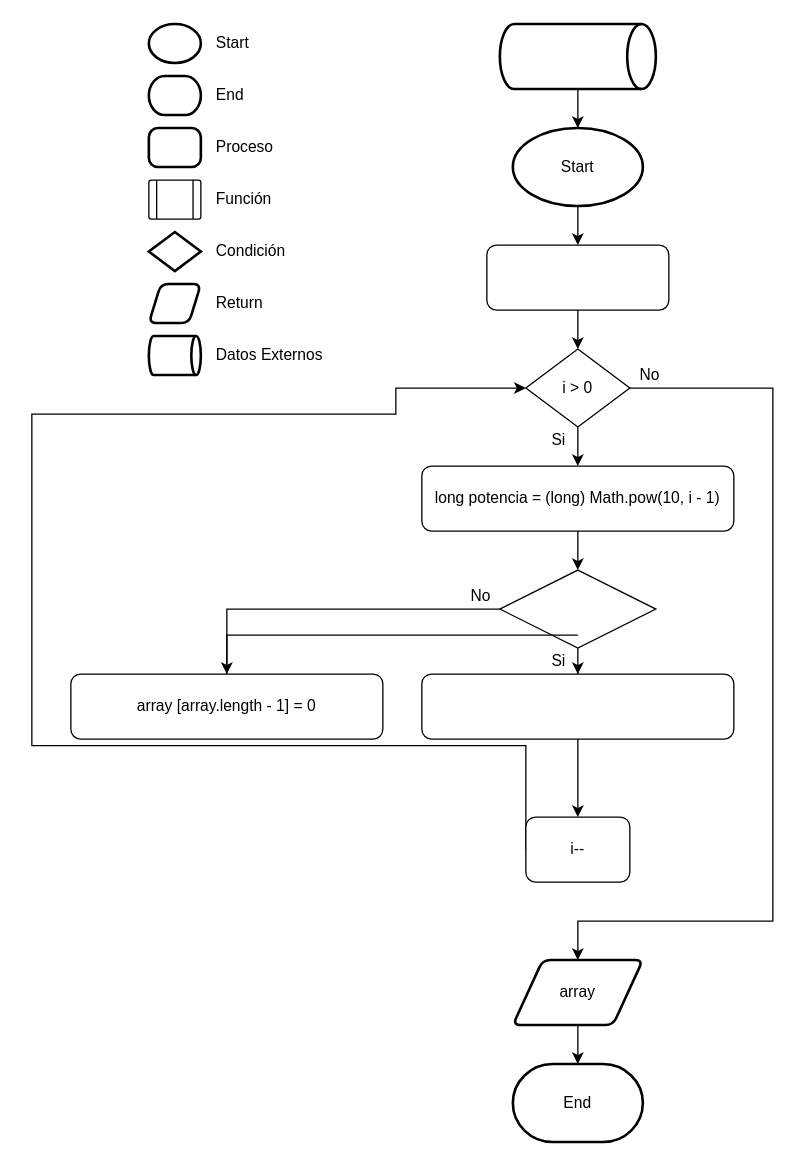
Some shapes in this 806 by 1165 pixel diagram are drawn without their labels. Here are the shapes that lost their labels. From the top down, the centre of each, then its label:
At pixel 577 56: "long n".
At pixel 577 277: "int[] array = new int[21] int i = array.length".
At pixel 577 608: "n / potencia != 0".
At pixel 577 706: "array [array.length - i] = (int) (n / potencia) n = n % potencia".
